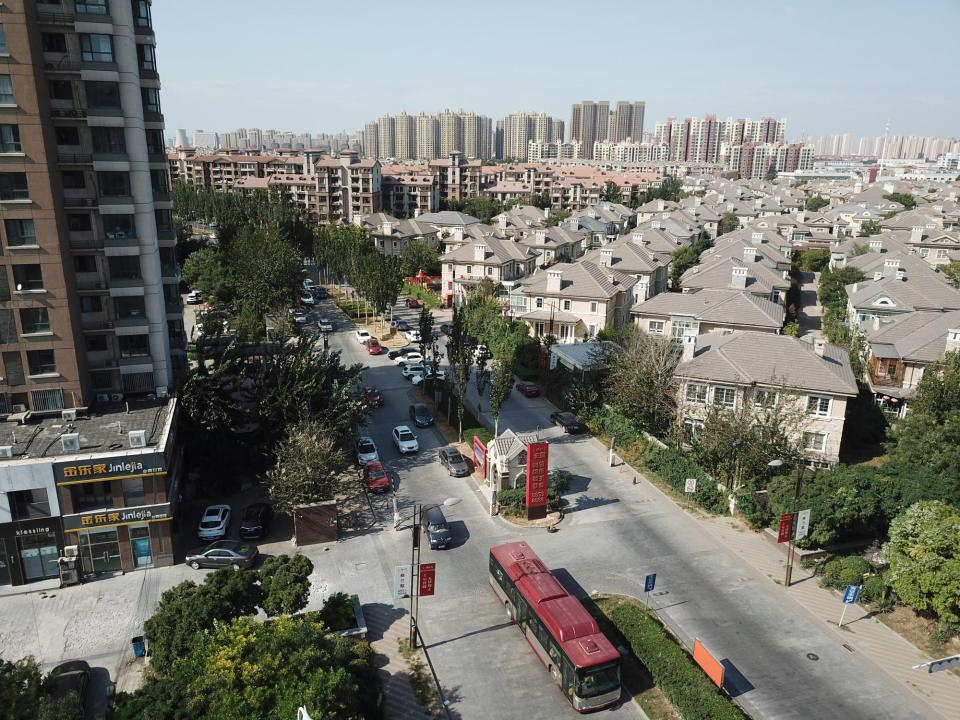bus: (488, 541, 622, 714)
car: (184, 538, 260, 573), (239, 503, 273, 541), (198, 504, 232, 540), (438, 446, 470, 477), (363, 460, 391, 494), (549, 410, 584, 435), (354, 436, 381, 466), (392, 425, 420, 453), (402, 363, 439, 381), (408, 403, 434, 427), (411, 370, 447, 386), (361, 385, 384, 407), (394, 352, 429, 366), (387, 347, 424, 360), (515, 381, 541, 398), (196, 326, 228, 339), (195, 319, 228, 331), (203, 300, 231, 312), (469, 344, 491, 359), (365, 338, 382, 355), (200, 307, 230, 316), (296, 292, 315, 306), (440, 323, 460, 335), (404, 330, 424, 342), (204, 304, 228, 314), (356, 330, 373, 344), (318, 319, 333, 332), (404, 297, 420, 309), (394, 319, 409, 331), (293, 312, 307, 324), (381, 310, 396, 320), (186, 293, 198, 304)
truck: (309, 286, 327, 298)
van: (420, 503, 452, 551), (299, 278, 315, 290)
